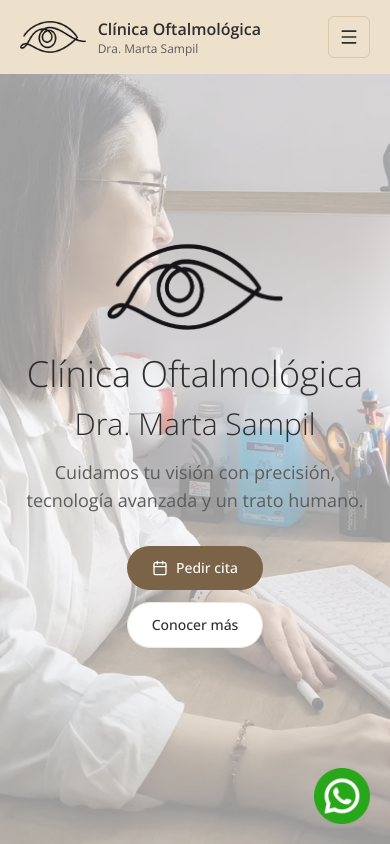
Test: enrutado › el menú móvil se abre, informa de su estado y se cierra con Escape
This screenshot has width=390, height=844.
Click the button named "Abrir menú": (349,37) left=328, top=16, right=370, bottom=58
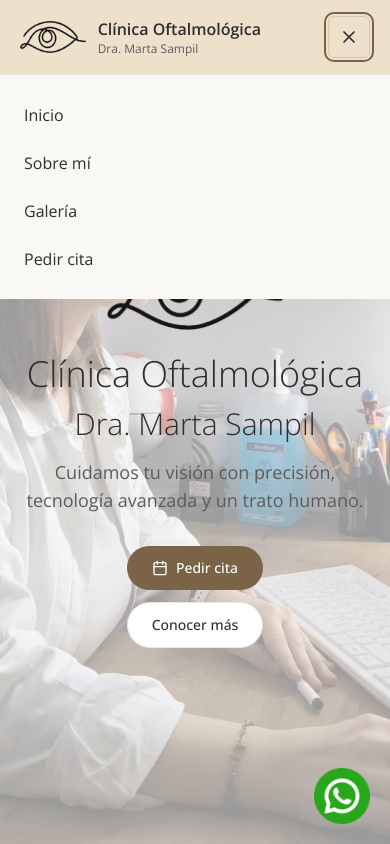
Check: the button named "Abrir menú" is expanded, box left=328, top=16, right=370, bottom=58
Check: the number of navigation bars "Principal" is 2
Press Escape
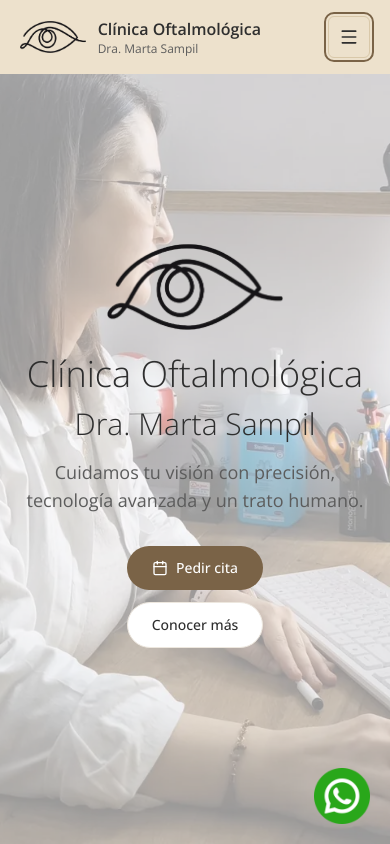
Check: the button named "Abrir menú" is collapsed, box left=328, top=16, right=370, bottom=58
